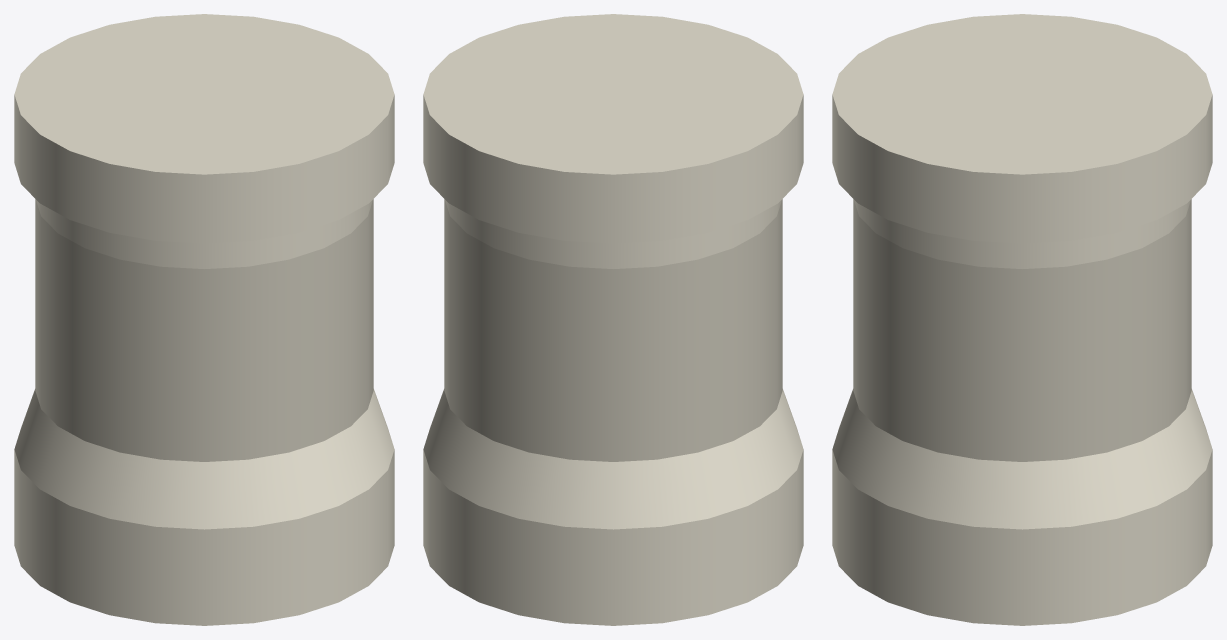
File: towerBase.glb
3 views of the same model, side by side, from view 1: azimuth 30°, elevation 25°; view 2: azimuth 150°, elevation 25°; view 3: azimuth 270°, elevation 25° (orthographic).
Visible parts, largest first — view 1: towerBase; view 2: towerBase; view 3: towerBase.
Boxes of the visible parts, x1,y1,x2,y2 form: towerBase: (14, 14, 394, 625); towerBase: (423, 14, 803, 625); towerBase: (832, 14, 1212, 625).
Bounding box in the file's own units: 10 × 13.1 × 10.
